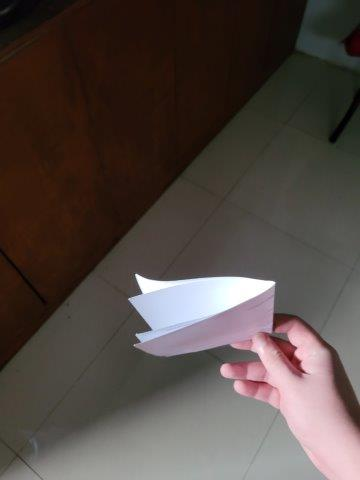kertas: (132, 275, 290, 374)
